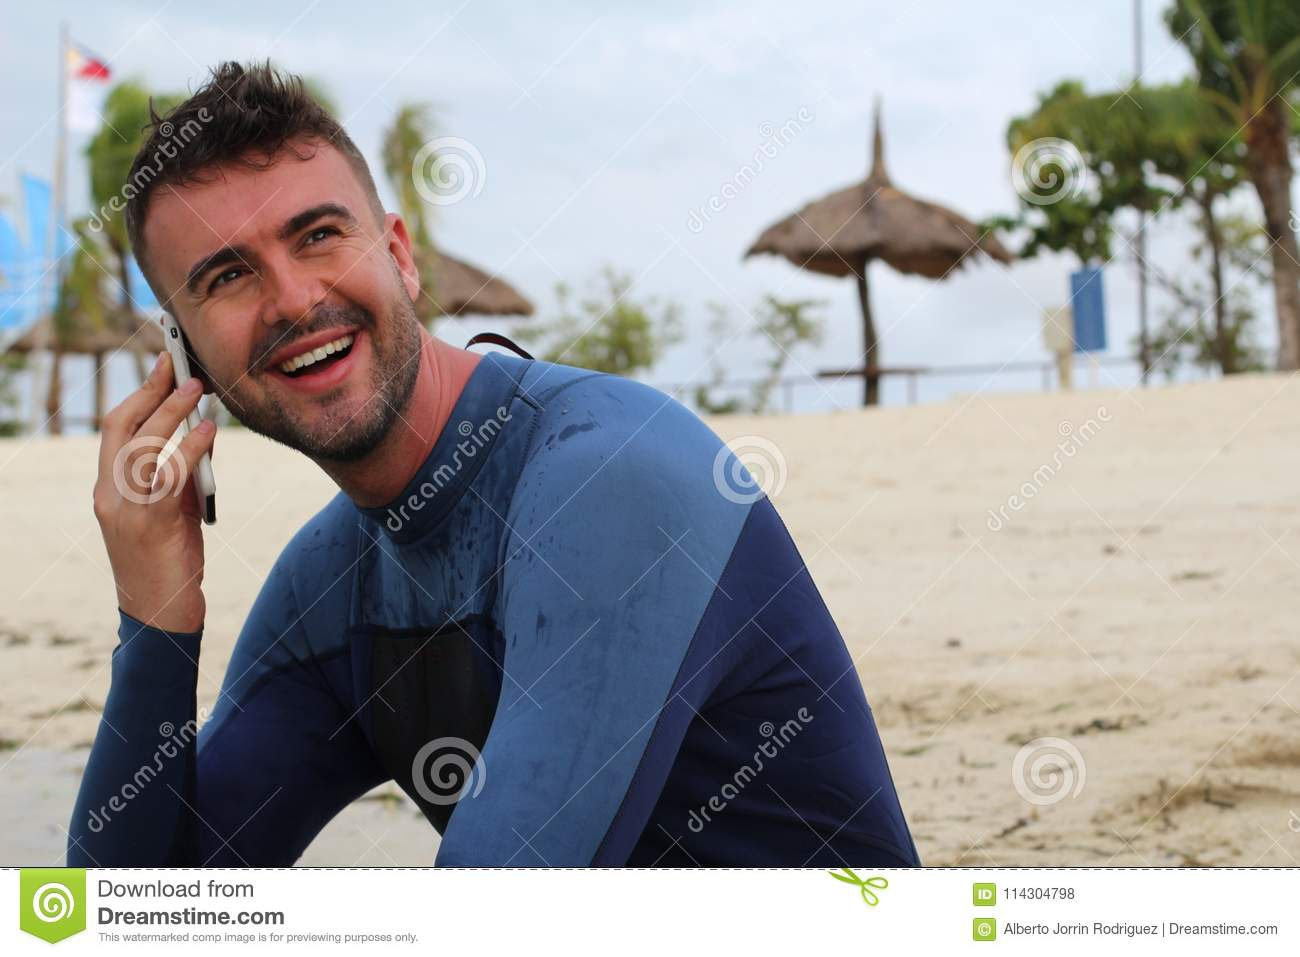phone: (147, 295, 227, 532)
talk: (95, 189, 399, 637)
